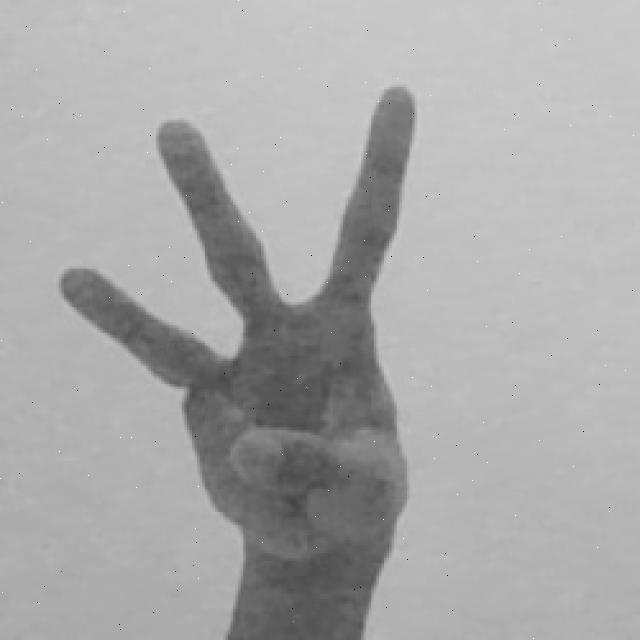W: (54, 77, 425, 640)
